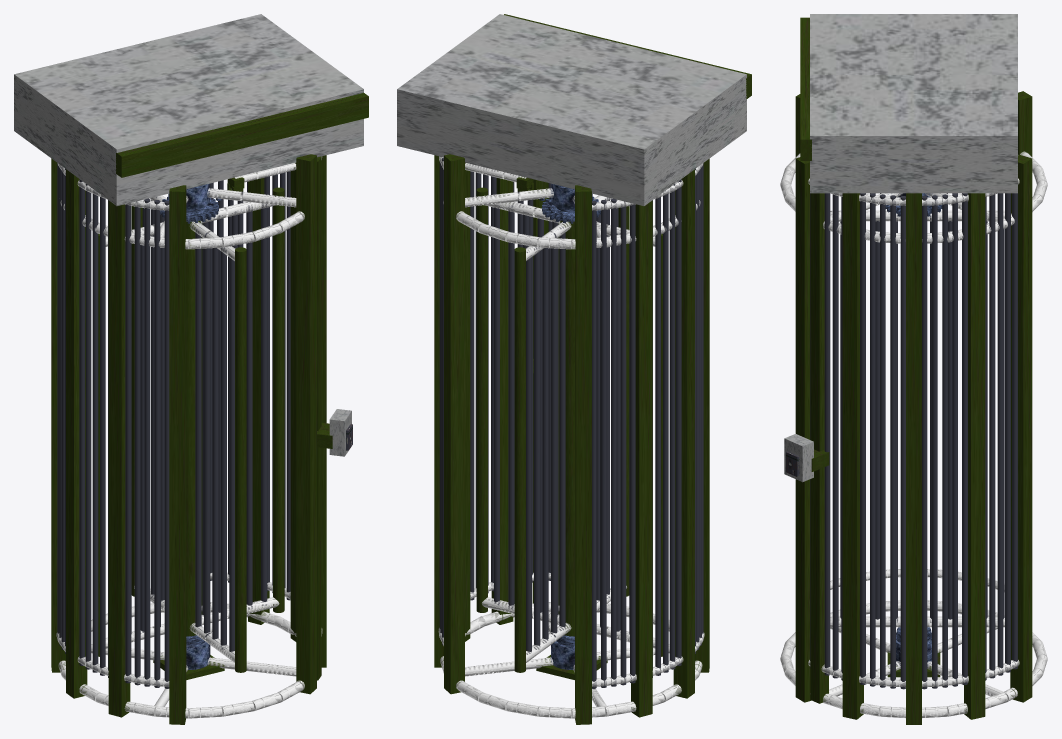
Rendered from pictureX_0611_full_height_turnstile__2972.glb.
3 renders of one model, left to right at view 1: azimuth 30°, elevation 25°; view 2: azimuth 150°, elevation 25°; view 3: azimuth 270°, elevation 25°, orthographic.
Visible parts, largest first — view 1: guard_frame::header_form__flat_header__housing_slab, guard_frame::guard_frame__cylindrical_bar_cage__cage_bar_1_1 (×5), guard_frame::guard_frame__cylindrical_bar_cage__cage_bar_1_2 (×4), guard_frame::guard_frame__cylindrical_bar_cage__upright_0, guard_frame::guard_frame__cylindrical_bar_cage__upright_9, guard_frame::guard_frame__cylindrical_bar_cage__upright_8, guard_frame::guard_frame__cylindrical_bar_cage__upright_7, guard_frame::header_form__flat_header__fascia, rotor::rotor_form__vertical_bar_rotor__wing_stile_3, rotor::rotor_form__vertical_bar_rotor__wing_stile_0, guard_frame::guard_frame__cylindrical_bar_cage__cage_bar_0_1 (×3), rotor::rotor__spindle (+29 smaller); view 2: guard_frame::header_form__flat_header__housing_slab, guard_frame::guard_frame__cylindrical_bar_cage__cage_bar_1_1 (×6), guard_frame::guard_frame__cylindrical_bar_cage__upright_4, guard_frame::guard_frame__cylindrical_bar_cage__upright_6, guard_frame::guard_frame__cylindrical_bar_cage__upright_5, guard_frame::guard_frame__cylindrical_bar_cage__upright_7, rotor::rotor_form__vertical_bar_rotor__wing_stile_1, rotor::rotor_form__vertical_bar_rotor__wing_stile_0, rotor::rotor__spindle, guard_frame::guard_frame__cylindrical_bar_cage__cage_bar_0_1 (×3), guard_frame::guard_frame__cylindrical_bar_cage__upright_1, guard_frame::guard_frame__cylindrical_bar_cage__upright_8 (+33 smaller); view 3: guard_frame::header_form__flat_header__housing_slab, guard_frame::guard_frame__cylindrical_bar_cage__cage_bar_0_1 (×8), guard_frame::guard_frame__cylindrical_bar_cage__cage_bar_0_2 (×4), guard_frame::guard_frame__cylindrical_bar_cage__upright_3, guard_frame::guard_frame__cylindrical_bar_cage__upright_1, guard_frame::guard_frame__cylindrical_bar_cage__upright_4, guard_frame::guard_frame__cylindrical_bar_cage__upright_2, guard_frame::guard_frame__cylindrical_bar_cage__upright_0, guard_frame::guard_frame__access_strap, guard_frame::guard_frame__cylindrical_bar_cage__cage_bar_0_4, guard_frame::guard_frame__cylindrical_bar_cage__cage_bar_0_3, guard_frame::guard_frame__cylindrical_bar_cage__cage_bar_0_9 (+13 smaller).
Part boxes in pixels (x1=…): guard_frame::header_form__flat_header__housing_slab: x1=14, y1=14, x2=363, y2=205; guard_frame::guard_frame__cylindrical_bar_cage__cage_bar_1_1 (×5): x1=79, y1=179, x2=131, y2=683; guard_frame::guard_frame__cylindrical_bar_cage__cage_bar_1_2 (×4): x1=134, y1=198, x2=169, y2=688; guard_frame::guard_frame__cylindrical_bar_cage__upright_0: x1=296, y1=154, x2=316, y2=694; guard_frame::guard_frame__cylindrical_bar_cage__upright_9: x1=169, y1=185, x2=186, y2=724; guard_frame::guard_frame__cylindrical_bar_cage__upright_8: x1=108, y1=200, x2=130, y2=717; guard_frame::guard_frame__cylindrical_bar_cage__upright_7: x1=66, y1=169, x2=87, y2=698; guard_frame::header_form__flat_header__fascia: x1=116, y1=93, x2=368, y2=177; rotor::rotor_form__vertical_bar_rotor__wing_stile_3: x1=235, y1=247, x2=246, y2=672; rotor::rotor_form__vertical_bar_rotor__wing_stile_0: x1=273, y1=187, x2=284, y2=612; guard_frame::guard_frame__cylindrical_bar_cage__cage_bar_0_1 (×3): x1=264, y1=170, x2=290, y2=600; rotor::rotor__spindle: x1=186, y1=220, x2=200, y2=636; guard_frame::header_form__flat_header__housing_slab: x1=397, y1=14, x2=746, y2=205; guard_frame::guard_frame__cylindrical_bar_cage__cage_bar_1_1 (×6): x1=592, y1=163, x2=703, y2=688; guard_frame::guard_frame__cylindrical_bar_cage__upright_4: x1=444, y1=154, x2=464, y2=694; guard_frame::guard_frame__cylindrical_bar_cage__upright_6: x1=631, y1=200, x2=652, y2=717; guard_frame::guard_frame__cylindrical_bar_cage__upright_5: x1=575, y1=185, x2=591, y2=724; guard_frame::guard_frame__cylindrical_bar_cage__upright_7: x1=673, y1=169, x2=694, y2=698; rotor::rotor_form__vertical_bar_rotor__wing_stile_1: x1=514, y1=247, x2=525, y2=672; rotor::rotor_form__vertical_bar_rotor__wing_stile_0: x1=476, y1=187, x2=487, y2=612; rotor::rotor__spindle: x1=560, y1=220, x2=574, y2=636; guard_frame::guard_frame__cylindrical_bar_cage__cage_bar_0_1 (×3): x1=439, y1=162, x2=552, y2=628; guard_frame::guard_frame__cylindrical_bar_cage__upright_1: x1=491, y1=177, x2=513, y2=624; guard_frame::guard_frame__cylindrical_bar_cage__upright_8: x1=695, y1=158, x2=709, y2=672; guard_frame::header_form__flat_header__housing_slab: x1=810, y1=14, x2=1017, y2=193; guard_frame::guard_frame__cylindrical_bar_cage__cage_bar_0_1 (×8): x1=890, y1=193, x2=986, y2=689; guard_frame::guard_frame__cylindrical_bar_cage__cage_bar_0_2 (×4): x1=989, y1=193, x2=1017, y2=678; guard_frame::guard_frame__cylindrical_bar_cage__upright_3: x1=964, y1=193, x2=985, y2=719; guard_frame::guard_frame__cylindrical_bar_cage__upright_1: x1=842, y1=193, x2=863, y2=719; guard_frame::guard_frame__cylindrical_bar_cage__upright_4: x1=1010, y1=154, x2=1032, y2=702; guard_frame::guard_frame__cylindrical_bar_cage__upright_2: x1=906, y1=193, x2=921, y2=724; guard_frame::guard_frame__cylindrical_bar_cage__upright_0: x1=795, y1=157, x2=811, y2=702; guard_frame::guard_frame__access_strap: x1=810, y1=193, x2=828, y2=703; guard_frame::guard_frame__cylindrical_bar_cage__cage_bar_0_4: x1=832, y1=193, x2=838, y2=678; guard_frame::guard_frame__cylindrical_bar_cage__cage_bar_0_3: x1=824, y1=193, x2=830, y2=675; guard_frame::guard_frame__cylindrical_bar_cage__cage_bar_0_9: x1=880, y1=194, x2=885, y2=687.
Bounding box in the file's own units: 1.09 × 2.47 × 1.01.
Materials: 6 (6 with a texture image).
